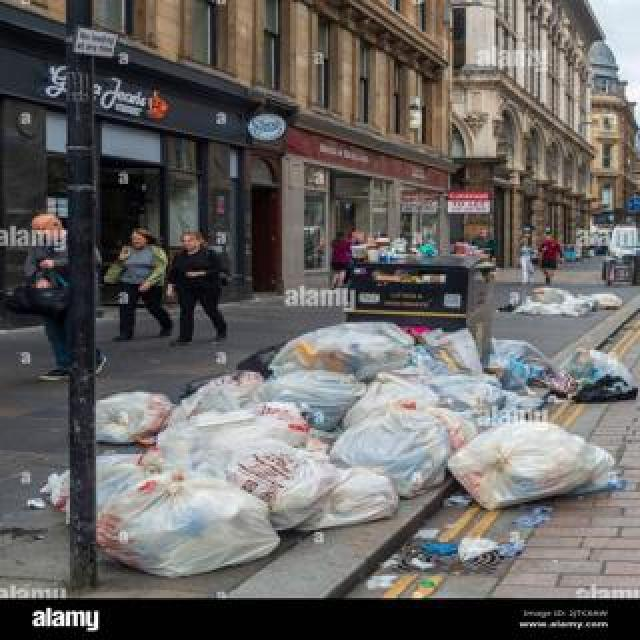high trash: (96, 322, 638, 577)
less trash: (406, 536, 525, 571), (499, 288, 622, 316)
